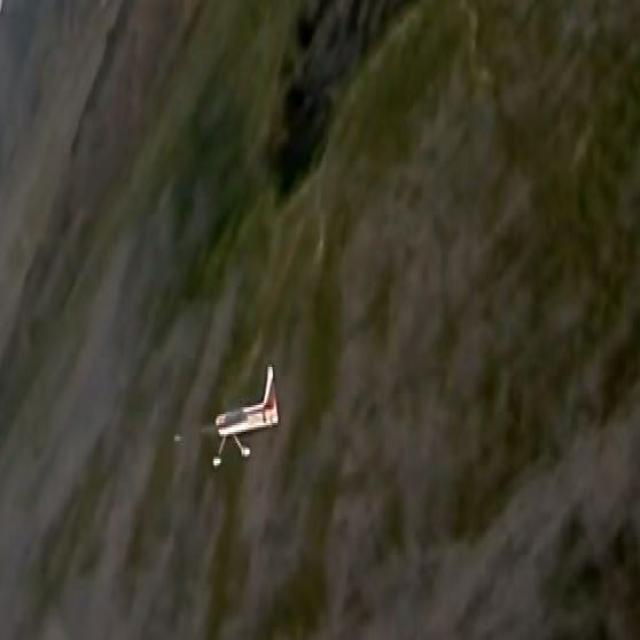iha: (204, 394, 248, 435)
